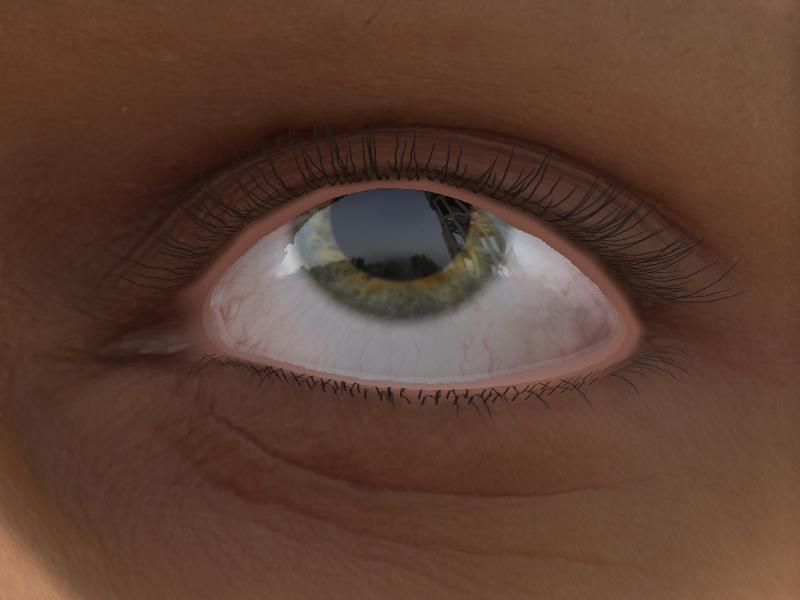eye: (290, 187, 508, 319)
